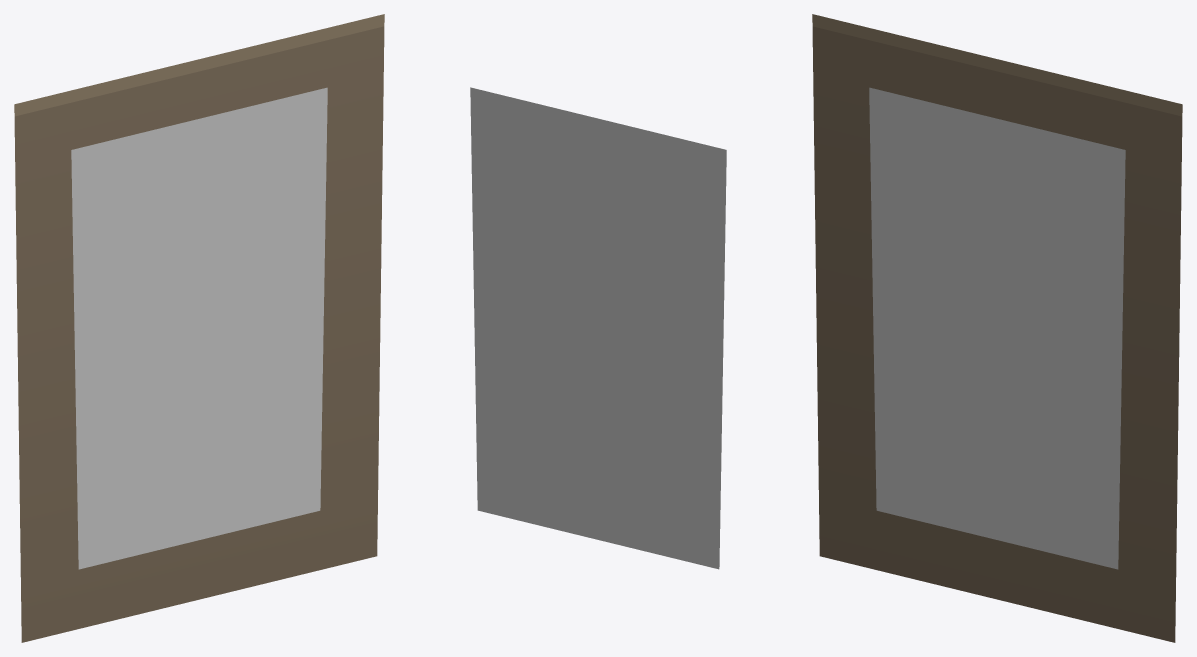
Rendered from MenuSign.glb.
3 views of the same model, side by side, from view 1: azimuth 30°, elevation 25°; view 2: azimuth 150°, elevation 25°; view 3: azimuth 330°, elevation 25° (orthographic).
Visible parts, largest first — view 1: MenuSign; view 2: MenuSign; view 3: MenuSign.
Boxes of the visible parts, x1,y1,x2,y2 form: MenuSign: (14,14,384,642); MenuSign: (470,87,726,569); MenuSign: (812,14,1182,642).
Bounding box in the file's own units: 0.4854 × 0.6771 × 0.000149.
